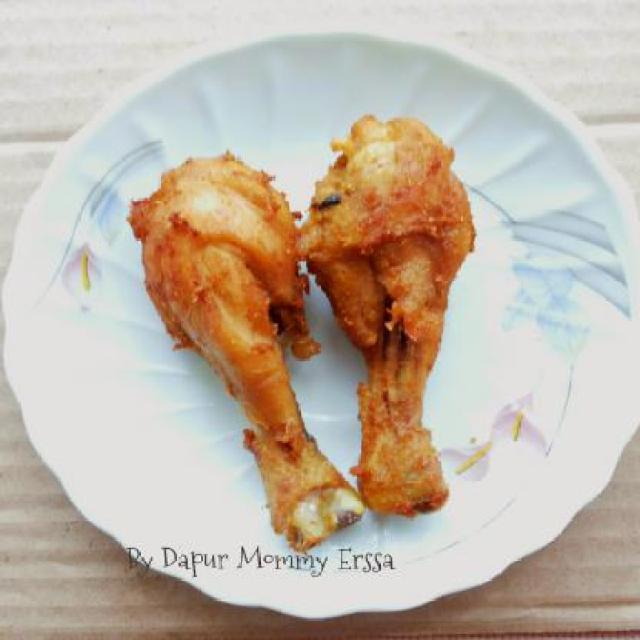Wet Waste: (128, 150, 357, 548), (297, 117, 472, 514)
